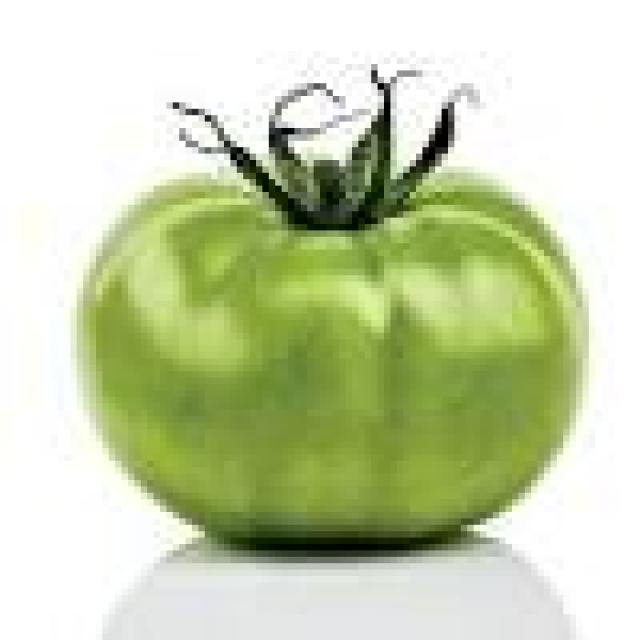tomato: (70, 83, 595, 557)
